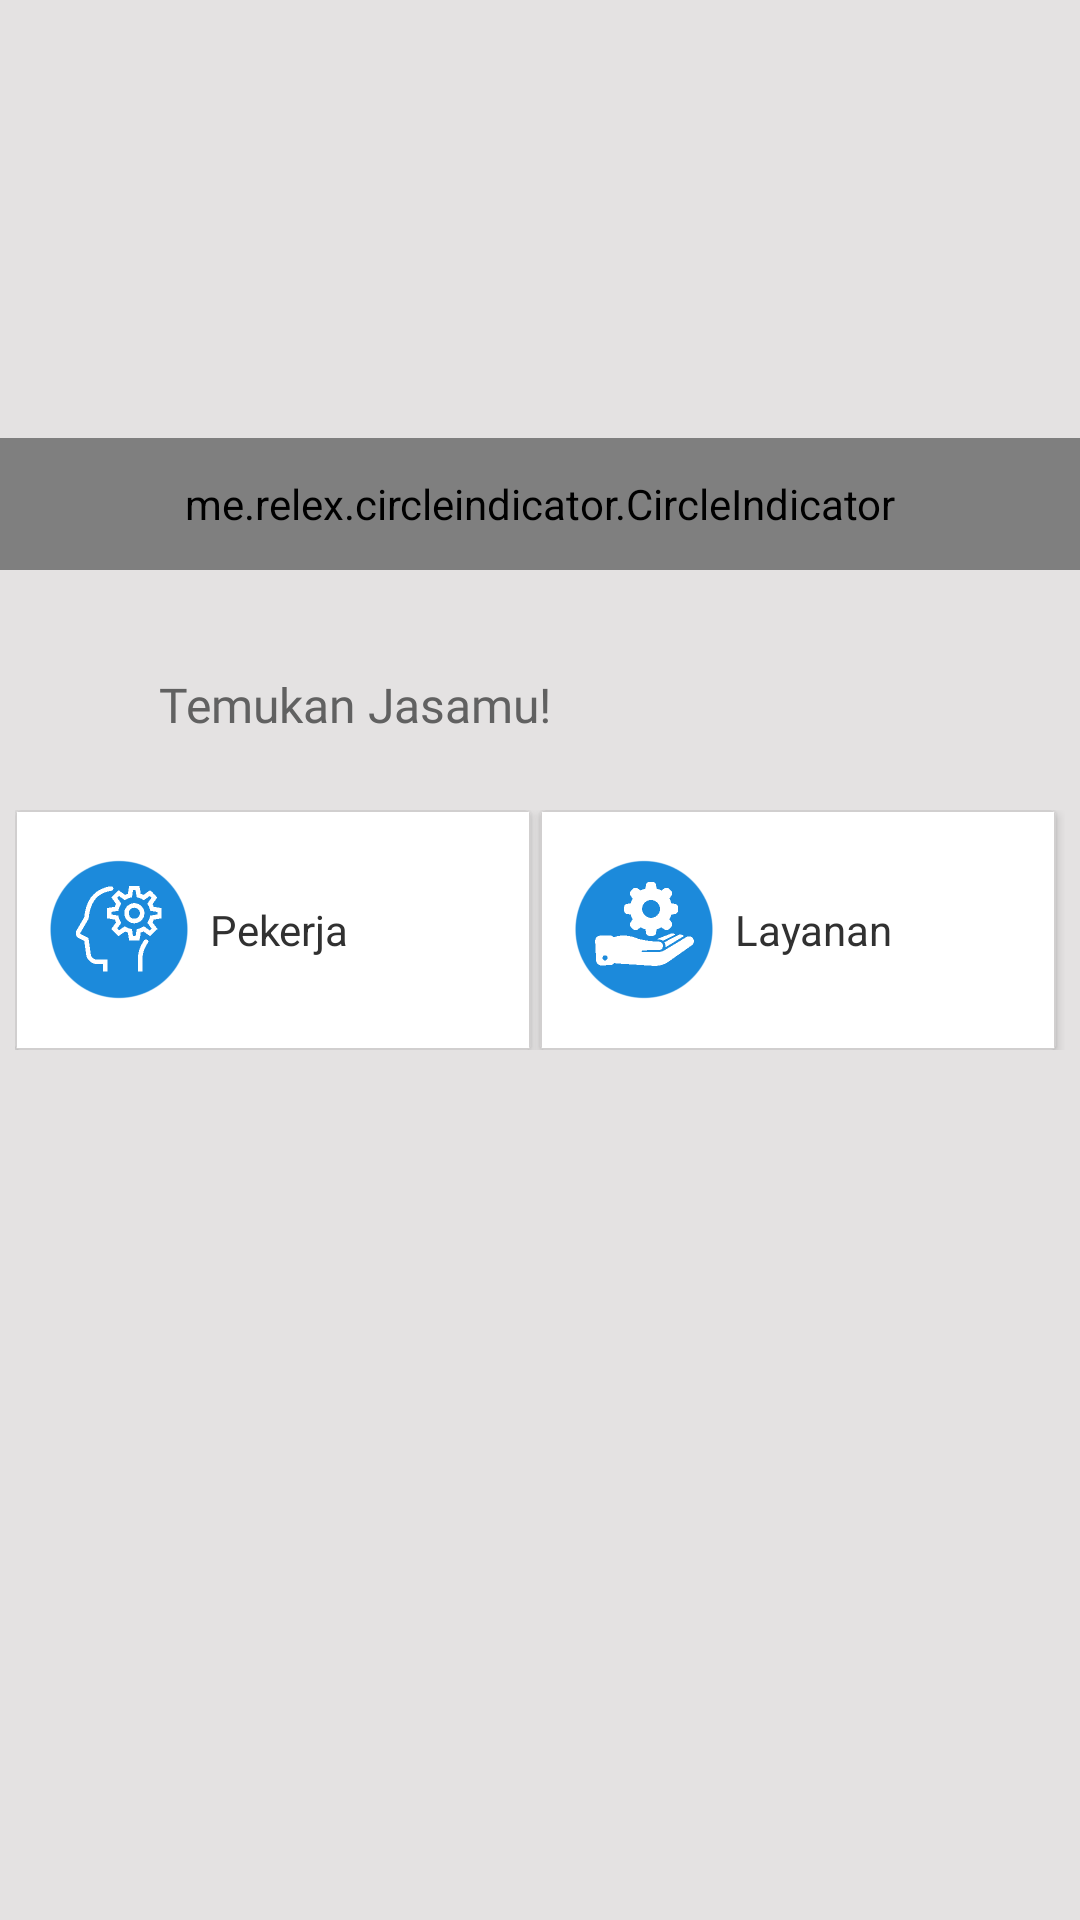

Icons on this 1080x1920 Android screen, each with the point to tap as [x,y]:
penawaran: [644,929]
skill: [119,929]
